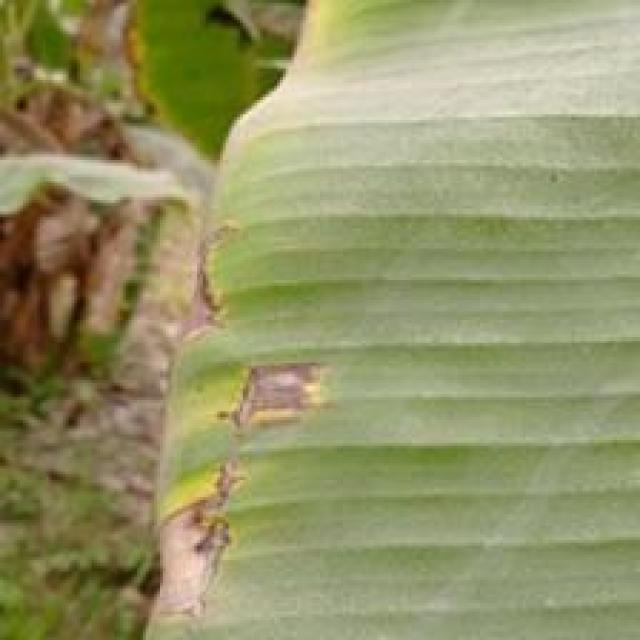Bacterial_spot: (140, 461, 250, 629), (216, 347, 352, 442), (173, 210, 240, 350)
